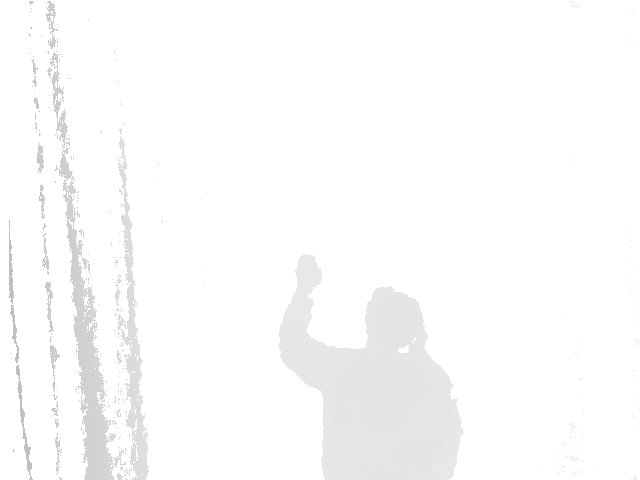hand: (291, 252, 323, 298)
head: (362, 285, 427, 359)
person: (277, 252, 466, 480)
